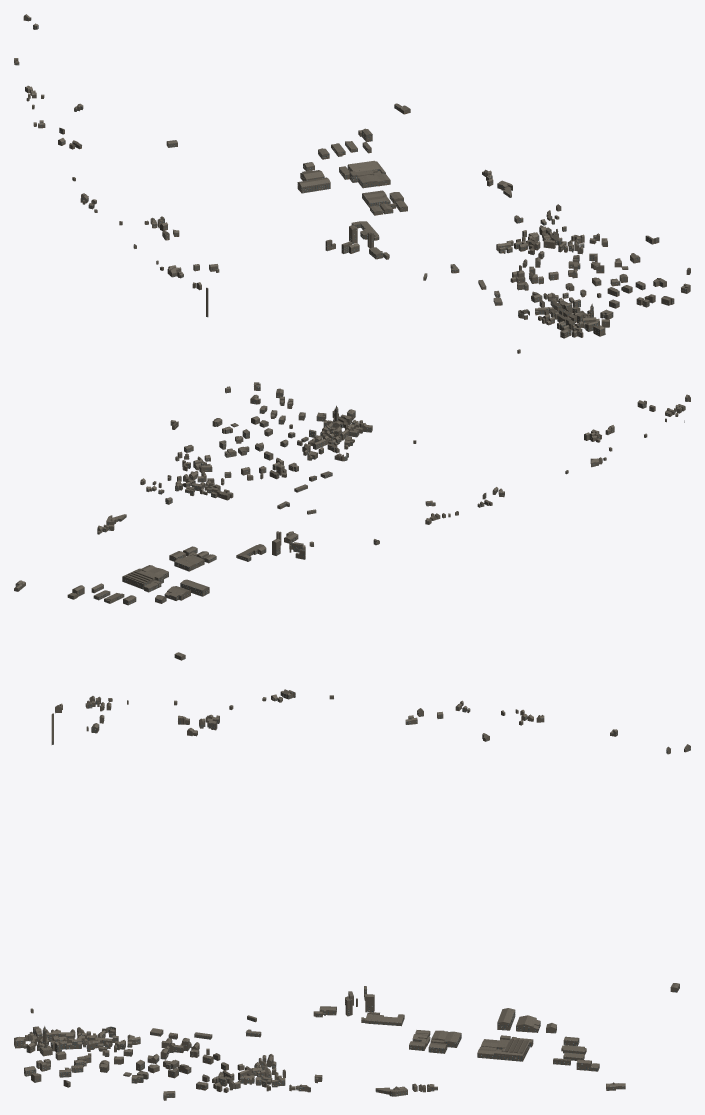
File: arquitetura-detalhada.glb
The picture shows the model from 3 angles, top to bottom: view 1: azimuth 30°, elevation 25°; view 2: azimuth 150°, elevation 25°; view 3: azimuth 270°, elevation 25°; orthographic projection. The views are drawn at different scales.
Parts seen in each view (by area): view 1: Edificios reais 2021, Glass / dark reflective details, Window frames / charcoal aluminium details; view 2: Edificios reais 2021, Glass / dark reflective details, Window frames / charcoal aluminium details; view 3: Edificios reais 2021, Glass / dark reflective details, Window frames / charcoal aluminium details.
Boxes of the visible parts, x1,y1,x2,y2 form: Edificios reais 2021: (14, 14, 690, 353); Glass / dark reflective details: (16, 18, 687, 336); Window frames / charcoal aluminium details: (14, 18, 690, 337); Edificios reais 2021: (14, 382, 690, 660); Glass / dark reflective details: (15, 386, 686, 659); Window frames / charcoal aluminium details: (16, 388, 684, 659); Edificios reais 2021: (14, 689, 690, 1100); Glass / dark reflective details: (17, 692, 690, 1097); Window frames / charcoal aluminium details: (17, 694, 679, 1099).
Bounding box in the file's own units: 952 × 283 × 995.
Materials: 11 (2 with a texture image).
